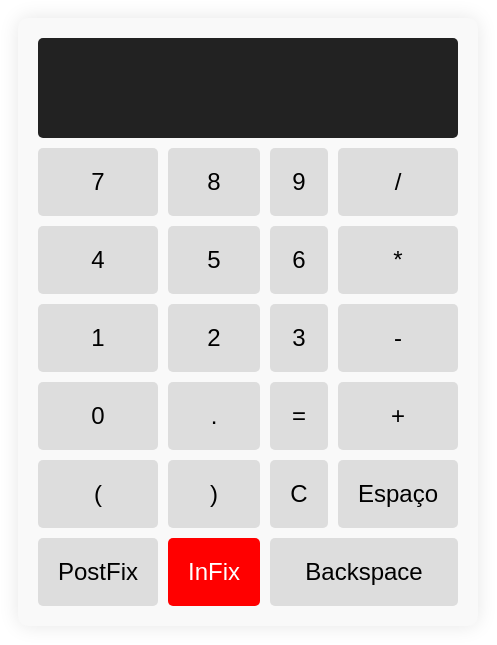
Test: evaluate InFix expression
Click the button "1". click: (98, 338)
box: [38, 304, 158, 372]
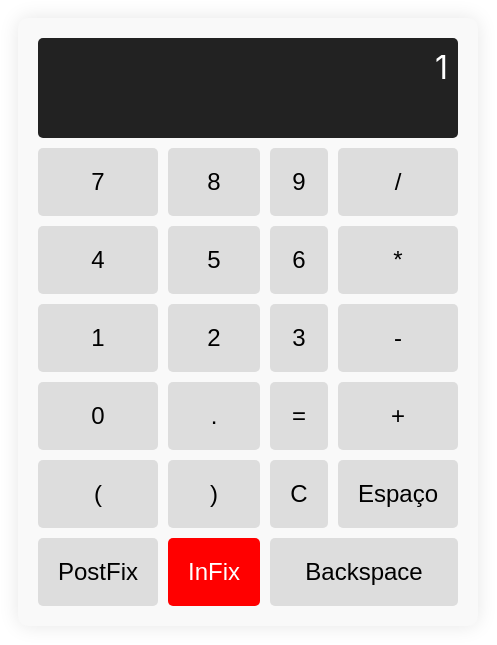
Click the button "+". click: (398, 416)
box: [338, 382, 458, 450]
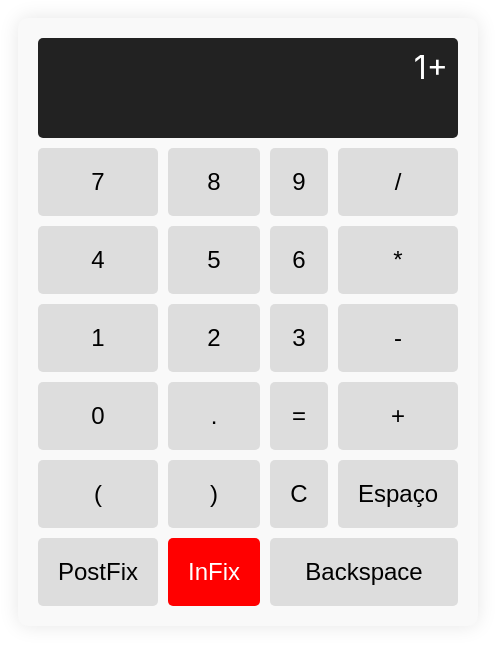
Click the button "2". click: (214, 338)
box: [168, 304, 260, 372]
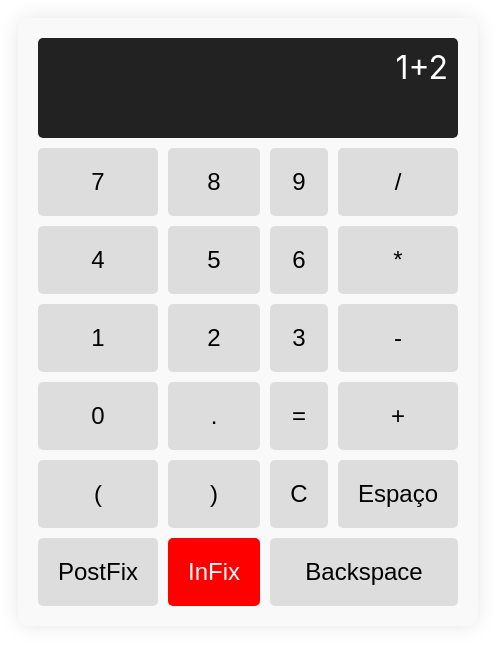
Click the button "*". click: (398, 260)
box: [338, 226, 458, 294]
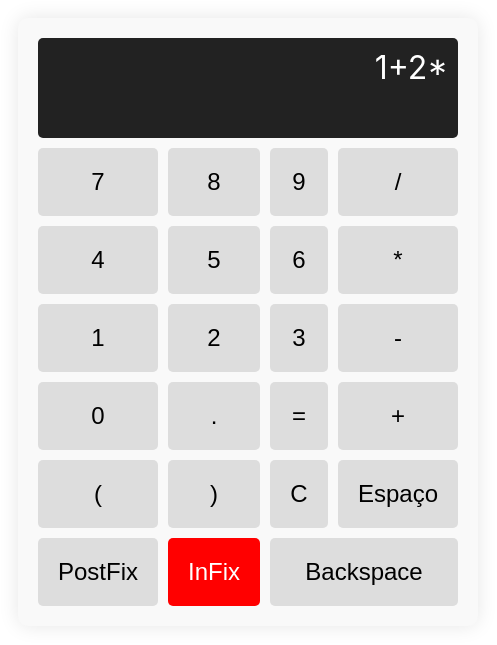
Click the button "3". click: (299, 338)
box: [270, 304, 328, 372]
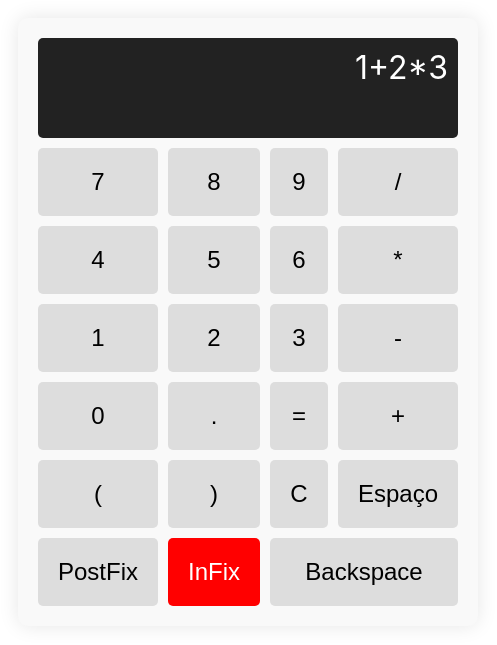
Click the button "=". click: (299, 416)
box: [270, 382, 328, 450]
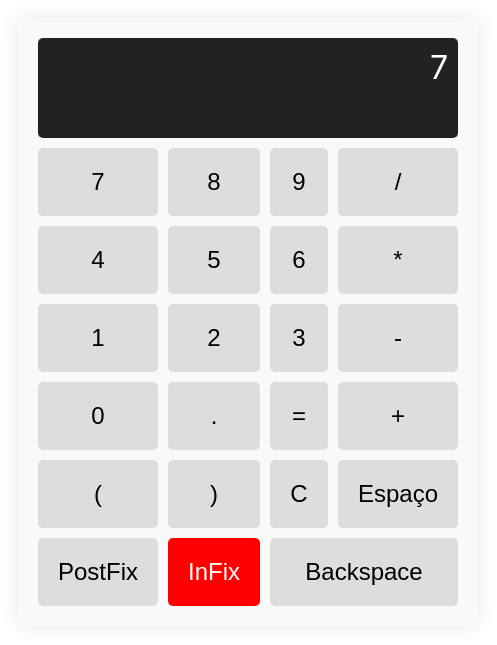
Expected: the text "7" is shown, [38, 38, 458, 138]
